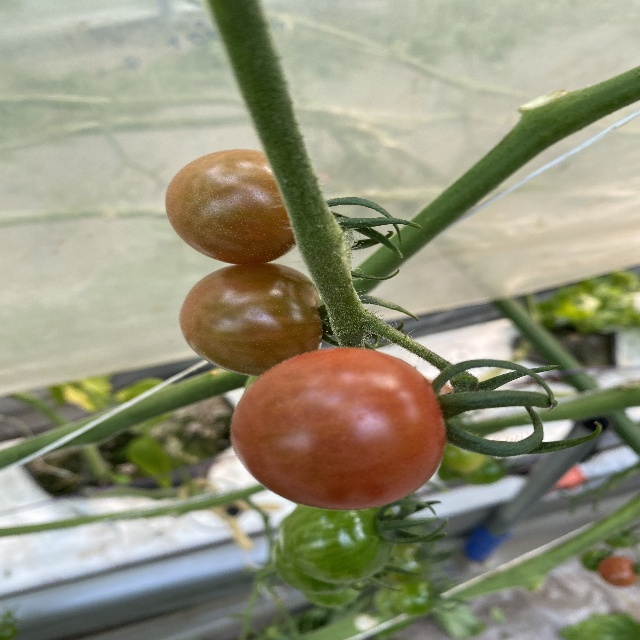l_fully_ripened: (230, 345, 448, 511)
l_green: (281, 503, 398, 584)
l_half_ripened: (178, 264, 322, 376), (163, 150, 298, 265)
